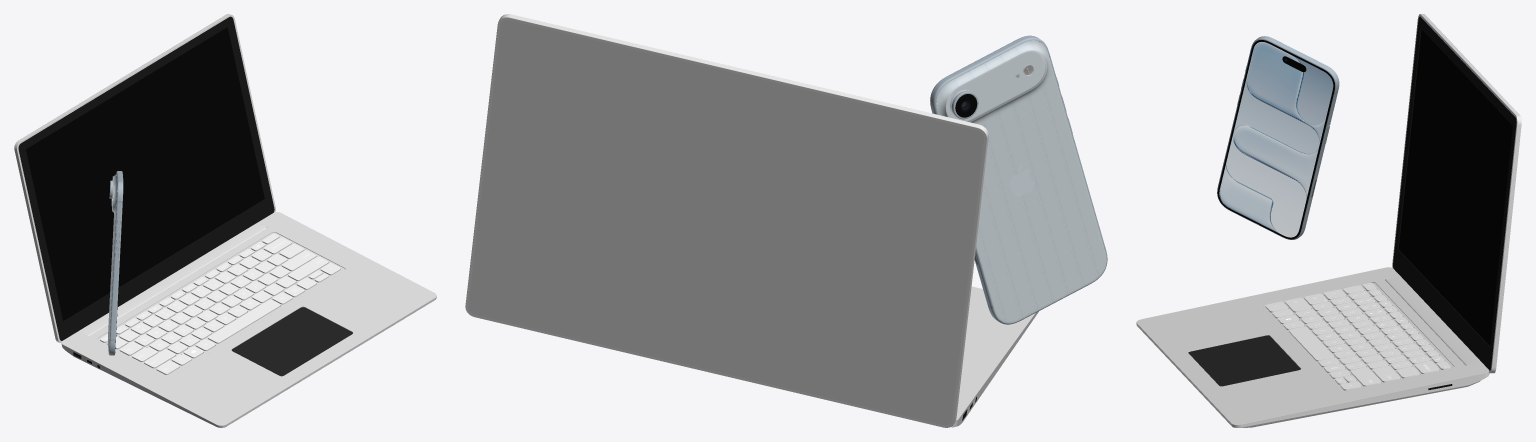
The model's file is iphone-laptop-scene-1.glb.
3 views of the same model, side by side, from view 1: azimuth 30°, elevation 25°; view 2: azimuth 150°, elevation 25°; view 3: azimuth 270°, elevation 25° (orthographic). The views are drawn at different scales.
Visible parts, largest first — view 1: Screen, Modern Slim Laptop, Keyboard, Screen Frame, UpKaGipWNvokUGf, OJRMWDmWznngIRa; view 2: Screen Frame, OJRMWDmWznngIRa, Modern Slim Laptop, OVsPzkwfIAnLrwQ, avktKcFMCgBNWOI, UpKaGipWNvokUGf; view 3: Modern Slim Laptop, Screen, tppzCQmnlKcHIpP, Keyboard, Screen Frame, UpKaGipWNvokUGf, iMtaIZldrieqomI.
Part boxes in pixels (x1,y1,x2,y2): Screen: (26, 27, 264, 320); Modern Slim Laptop: (61, 212, 436, 427); Keyboard: (100, 233, 340, 374); Screen Frame: (14, 14, 275, 342); UpKaGipWNvokUGf: (109, 171, 123, 355); OJRMWDmWznngIRa: (108, 172, 117, 353); Screen Frame: (465, 14, 988, 427); OJRMWDmWznngIRa: (936, 40, 1106, 323); Modern Slim Laptop: (951, 286, 1038, 427); OVsPzkwfIAnLrwQ: (946, 50, 1047, 121); avktKcFMCgBNWOI: (946, 50, 1047, 121); UpKaGipWNvokUGf: (930, 35, 1107, 324); Modern Slim Laptop: (1136, 267, 1489, 427); Screen: (1398, 29, 1512, 345); tppzCQmnlKcHIpP: (1219, 42, 1333, 237); Keyboard: (1265, 282, 1450, 390); Screen Frame: (1392, 14, 1521, 373); UpKaGipWNvokUGf: (1217, 36, 1339, 239); iMtaIZldrieqomI: (1217, 40, 1334, 239).
Size of what is drawn, in the model's own units: 4.39 by 3.13 by 3.57.
Materials: 44 (11 with a texture image).
